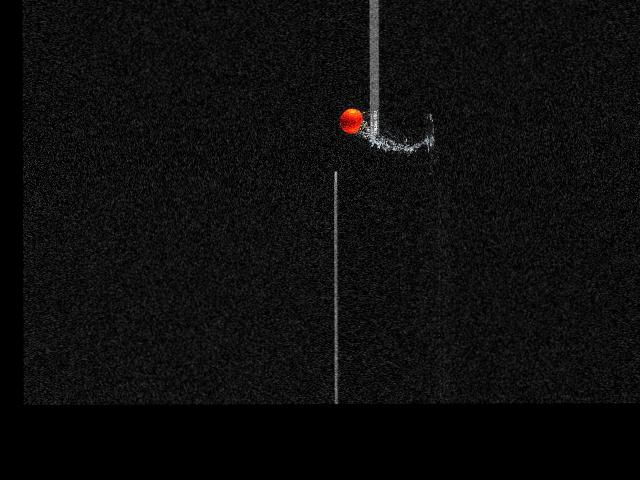tomato: (340, 108, 363, 133)
